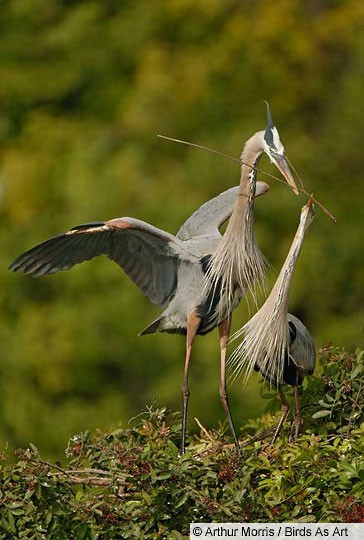heron: (7, 98, 297, 447), (249, 190, 336, 451)
